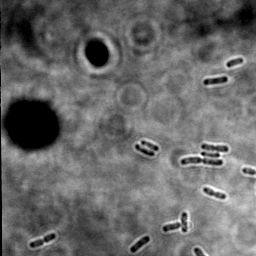Dividing: (179, 155, 226, 168), (28, 231, 57, 249), (201, 186, 228, 201), (200, 142, 231, 153)
Rod: (129, 233, 151, 254), (133, 142, 156, 159), (139, 139, 161, 153), (202, 76, 230, 87), (161, 221, 181, 234), (225, 57, 245, 69), (180, 211, 189, 235), (199, 150, 223, 159)
